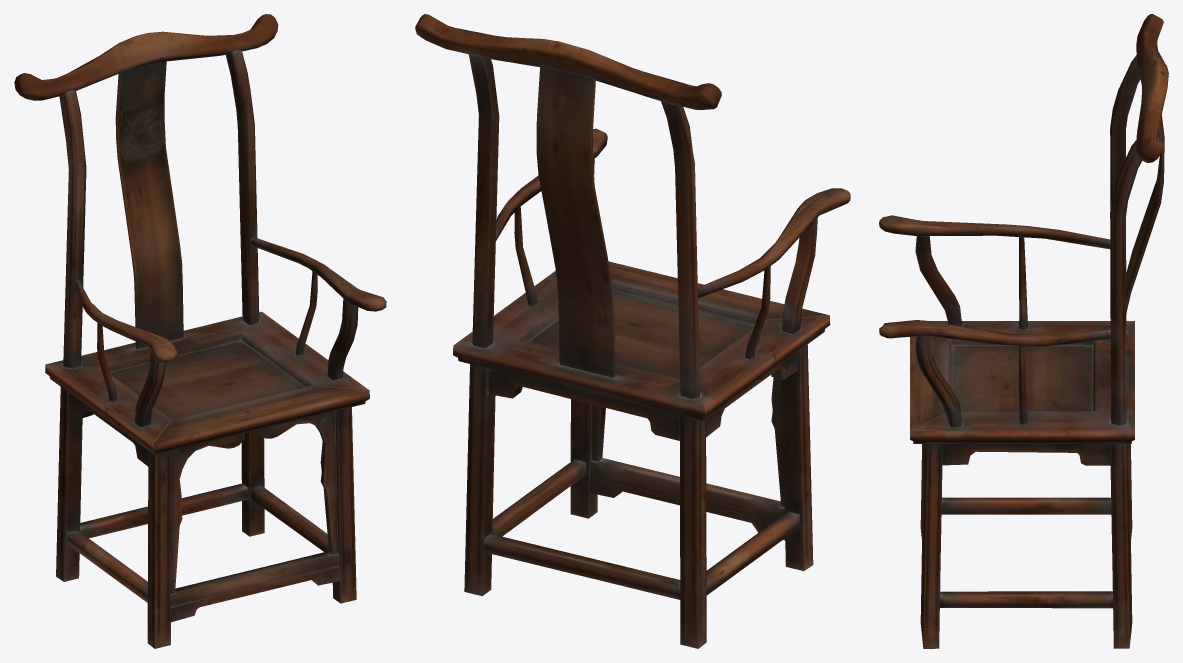
The model's file is chinese_armchair.glb.
The picture shows the model from 3 angles, left to right: view 1: azimuth 30°, elevation 25°; view 2: azimuth 150°, elevation 25°; view 3: azimuth 270°, elevation 25°; orthographic projection. The views are drawn at different scales.
Parts seen in each view (by area): view 1: chinese_armchair; view 2: chinese_armchair; view 3: chinese_armchair.
Part boxes in pixels (x1,y1,x2,y2): chinese_armchair: (14, 14, 386, 648); chinese_armchair: (415, 14, 850, 648); chinese_armchair: (879, 14, 1168, 648).
Size of the model in its own units: 0.8483 by 1.59 by 0.7887.
Materials: 1 (1 with a texture image).
